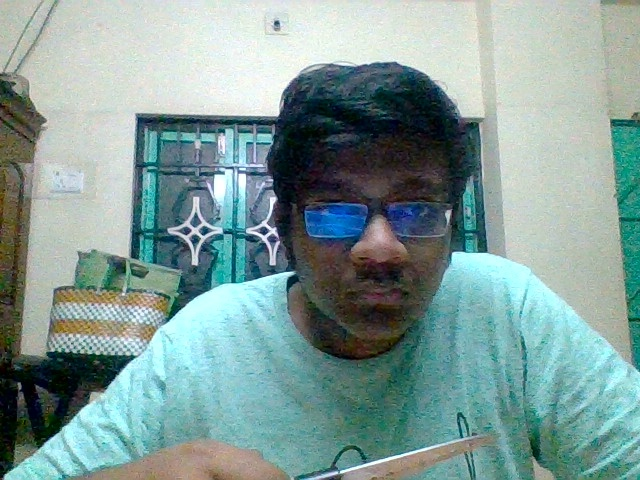knife: (307, 433, 498, 477)
